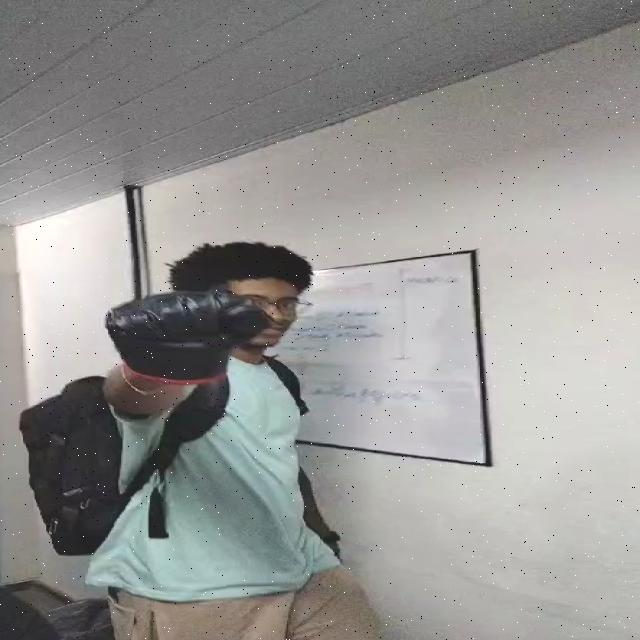Gloves: (98, 283, 267, 392)
